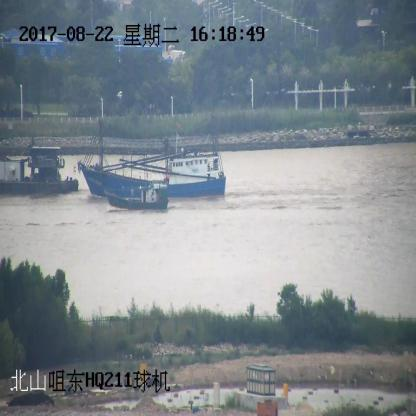Fishing Boat: (76, 119, 226, 201), (105, 176, 170, 211)
